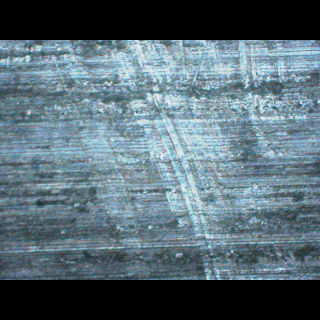d: (89, 40, 319, 235)
